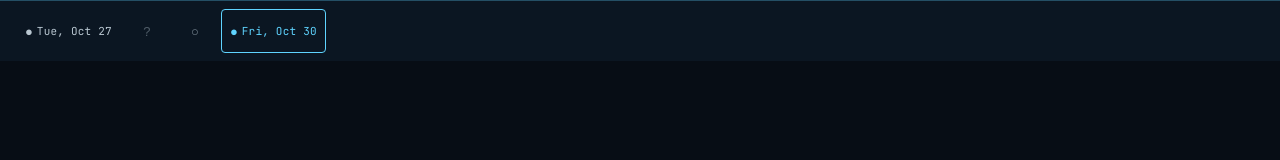
Test case: EditionsStrip › a gap mark explains itself and offers the latest edition, then dismisses
This screenshot has width=1280, height=160.
What coordinates should you click on to do the following:
click the button named "Thu, Oct 29, no edition was published"
I would click on:
 (195, 31)
Its box is [173,9,217,53].
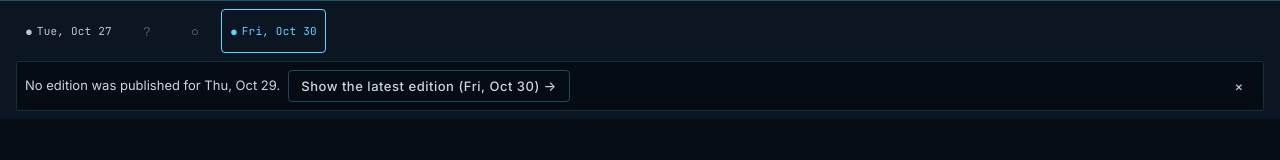
Now the message shows "No edition was published for Thu, Oct 29.", box [16,61,1264,111]
What coordinates should you click on to do the following:
click the button "Show the latest edition (Fri, Oct 30) →"
I would click on:
 (429, 86)
Its box is [288,70,570,102].
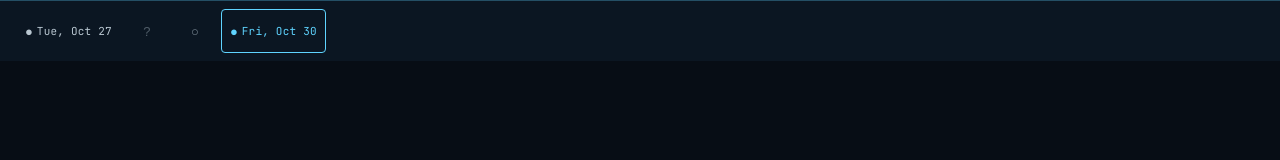
Now the message "No edition was published for Thu, Oct 29. Show the latest edition (Fri, Oct 30)" is gone
What coordinates should you click on to do the following:
click the button named "Thu, Oct 29, no edition was published"
I would click on:
 (195, 31)
Its box is [173,9,217,53].
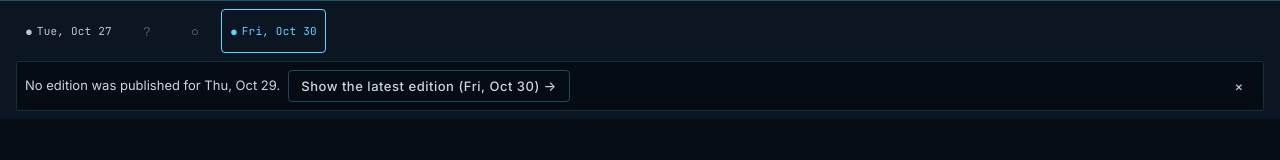
What coordinates should you click on to do the following:
click the button named "Dismiss"
I would click on:
 (1239, 86)
Its box is [1223,70,1255,102].
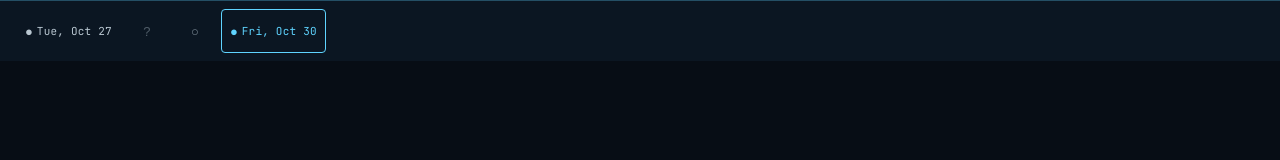
Now the message "No edition was published for Thu, Oct 29. Show the latest edition (Fri, Oct 30)" is gone
